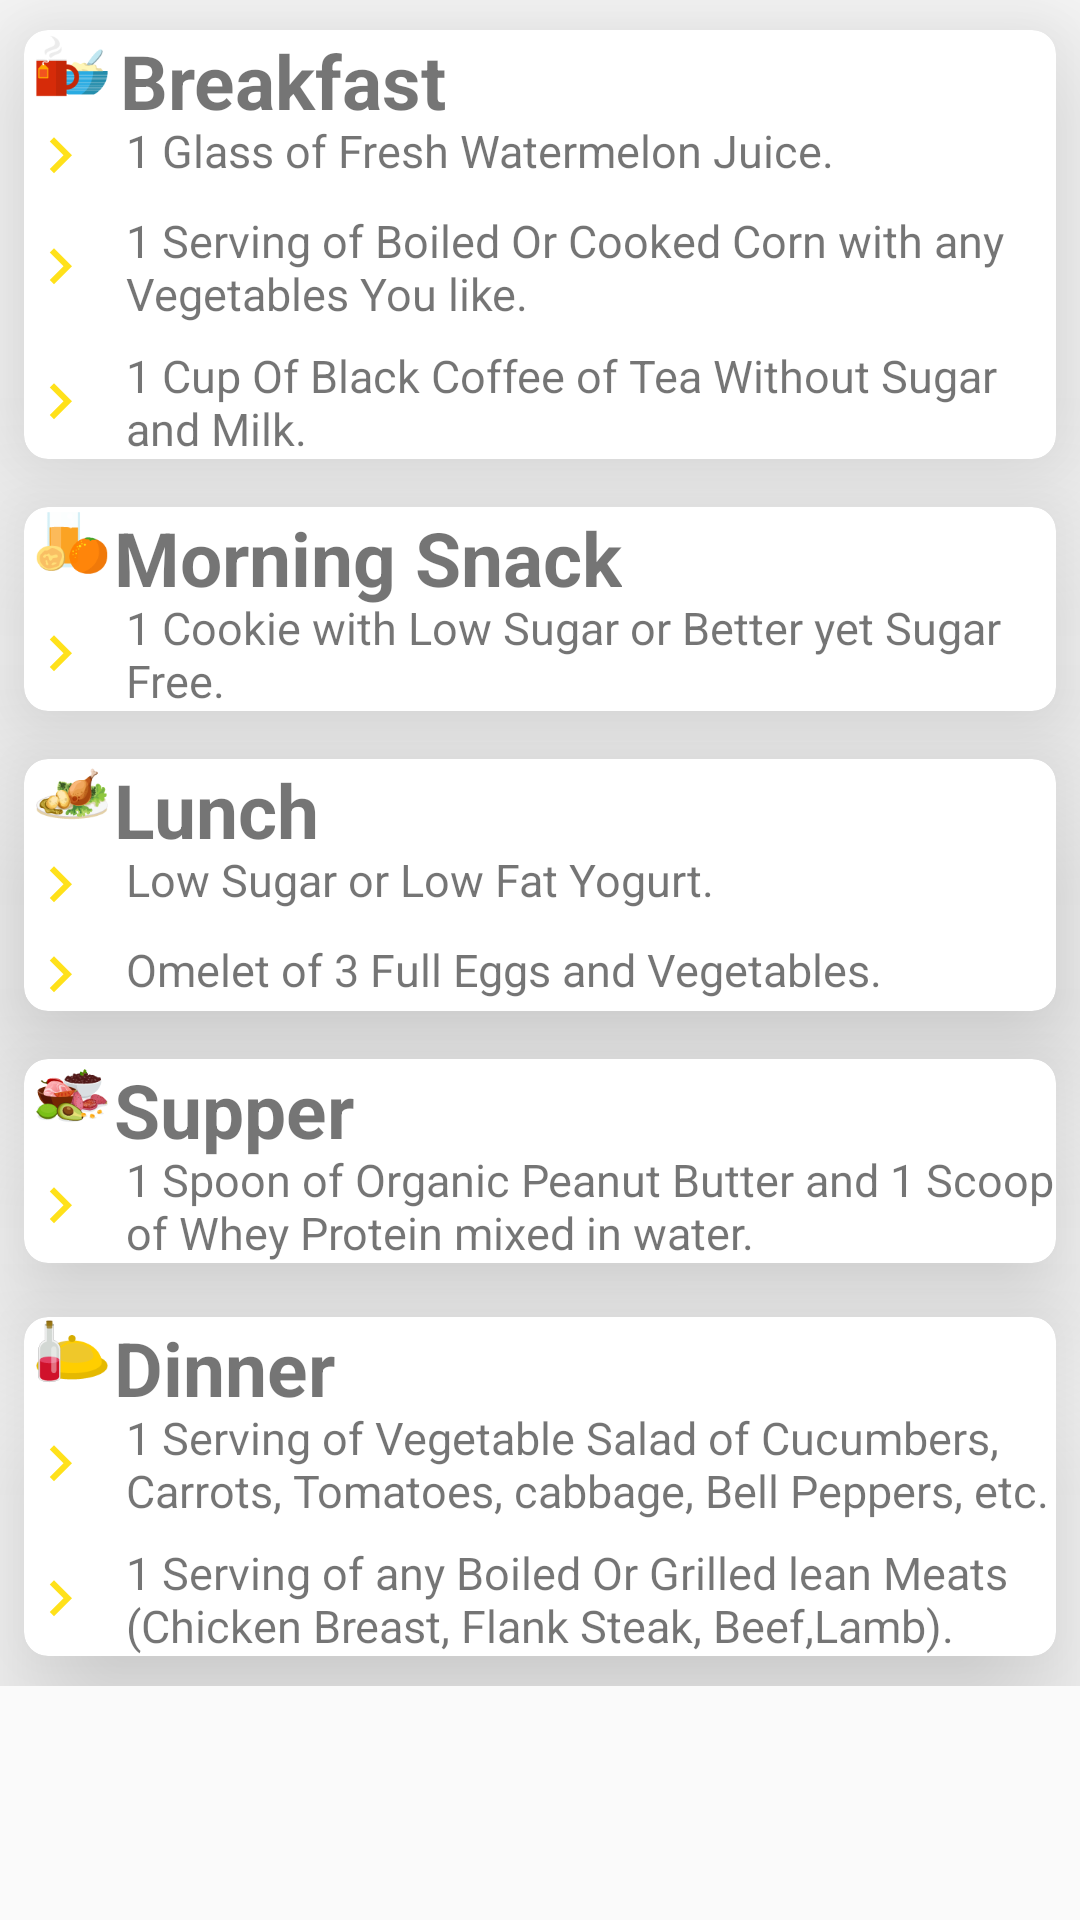

Icons on this 1080px x 1920px Android screen, each with its box as (x1, y1, x2, y2):
snacks: (36, 512, 108, 574)
